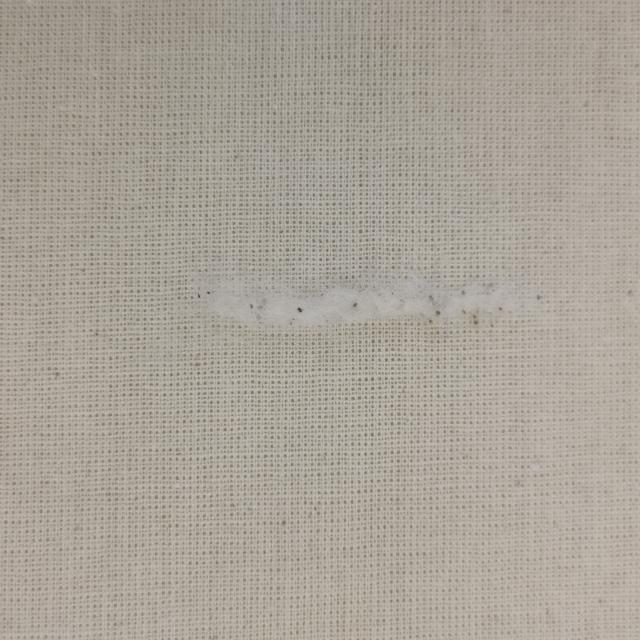stains: (123, 112, 640, 526)
